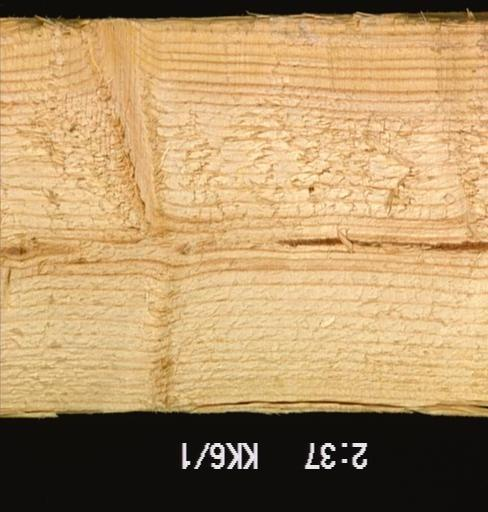split: (183, 394, 486, 412)
